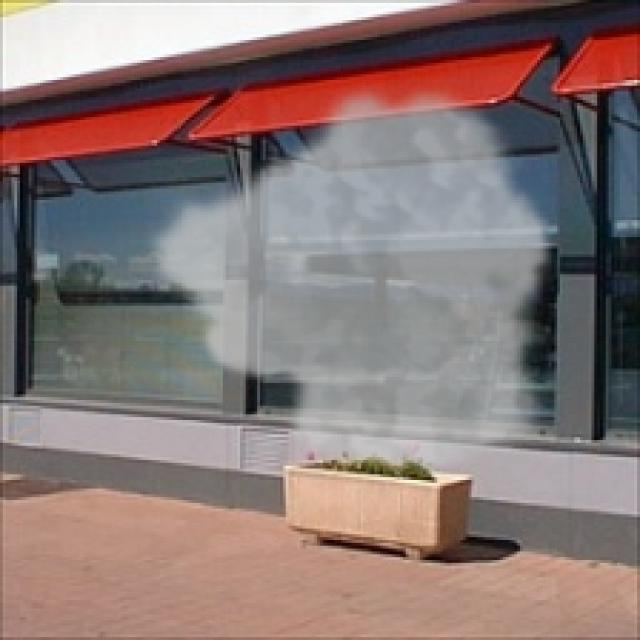smoke: (143, 77, 557, 480)
